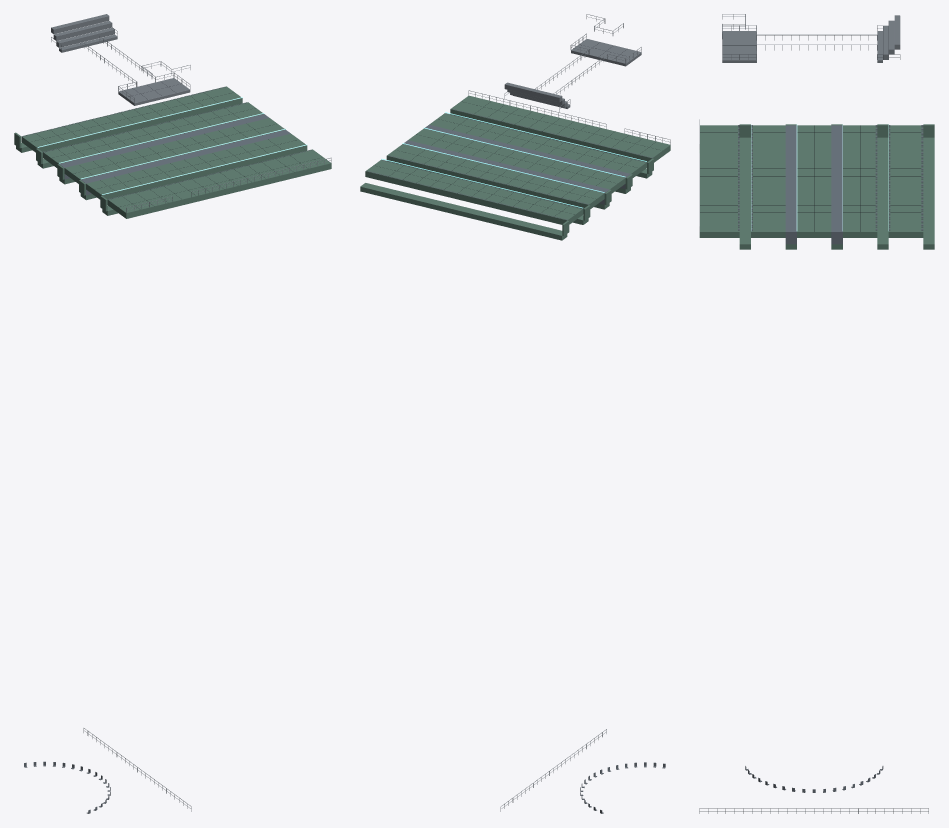
3 views of the same model, side by side, from view 1: azimuth 30°, elevation 25°; view 2: azimuth 150°, elevation 25°; view 3: azimuth 270°, elevation 25° (orthographic). The views are drawn at different scales.
Parts seen in each view (by area): view 1: p0_m1; view 2: p0_m1; view 3: p0_m1.
Boxes of the visible parts, x1=… form: p0_m1: x1=14, y1=14, x2=331, y2=813; p0_m1: x1=360, y1=14, x2=670, y2=813; p0_m1: x1=699, y1=14, x2=934, y2=813.
Bounding box in the file's own units: 47.66 × 151 × 41.03.
